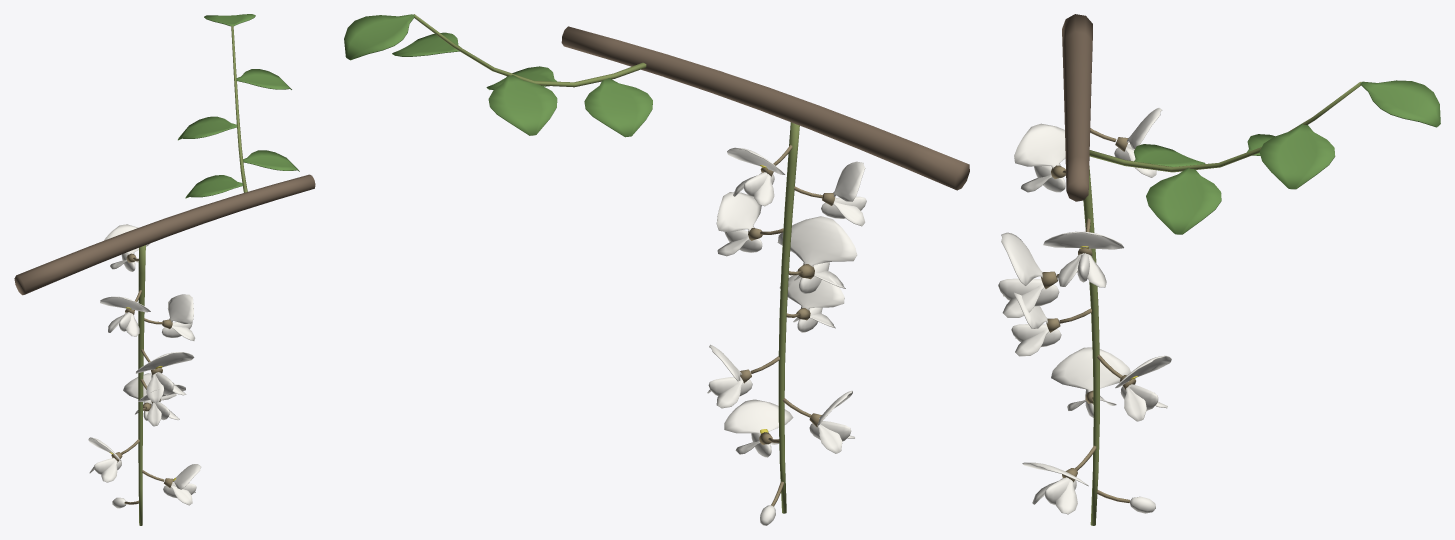
File: flower-robinia-low.glb
The picture shows the model from 3 angles, left to right: view 1: azimuth 30°, elevation 25°; view 2: azimuth 150°, elevation 25°; view 3: azimuth 270°, elevation 25°; orthographic projection. The views are drawn at different scales.
Parts seen in each view (by area): view 1: branch, raceme_flowers, leaves, raceme_axis, hero_petals, hero_wings; view 2: raceme_flowers, branch, leaves, raceme_axis, hero_petals; view 3: raceme_flowers, leaves, branch, raceme_axis, hero_petals, hero_keel_full, hero_wings.
Part boxes in pixels (box(x1,y1,x2,y2)): branch: box(14, 174, 315, 295); raceme_flowers: box(88, 224, 201, 508); leaves: box(178, 14, 299, 198); raceme_axis: box(138, 245, 145, 525); hero_petals: box(135, 352, 194, 373); hero_wings: box(146, 372, 186, 402); raceme_flowers: box(707, 145, 866, 525); branch: box(561, 26, 969, 190); leaves: box(344, 14, 652, 137); raceme_axis: box(778, 122, 799, 513); hero_petals: box(777, 216, 857, 266); raceme_flowers: box(1011, 108, 1171, 514); leaves: box(1089, 80, 1440, 234); branch: box(1062, 14, 1092, 201); raceme_axis: box(1083, 166, 1099, 525); hero_petals: box(1001, 232, 1042, 285); hero_keel_full: box(998, 278, 1059, 306); hero_wings: box(1002, 283, 1044, 317).
Size of the model in its own units: 15.41 by 16.58 by 11.59.
